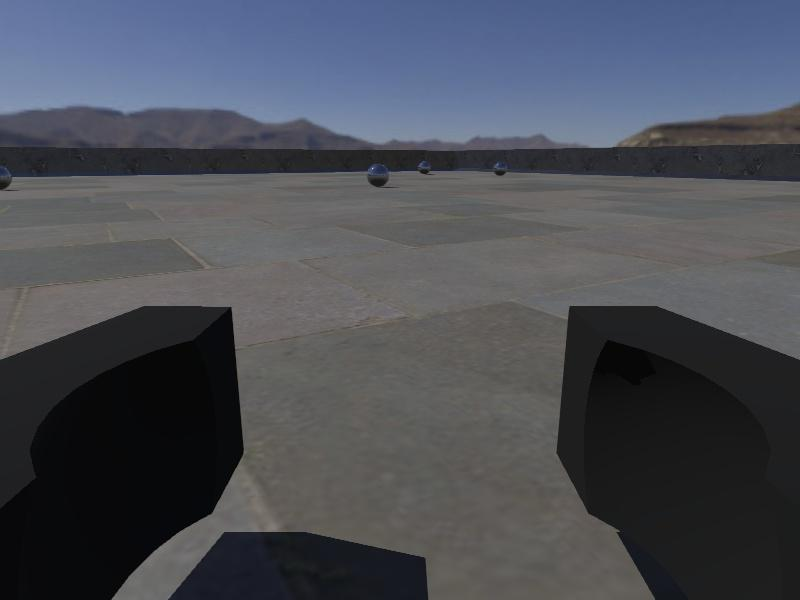steel ball: (365, 163, 390, 188), (492, 160, 508, 176), (416, 159, 432, 173)
